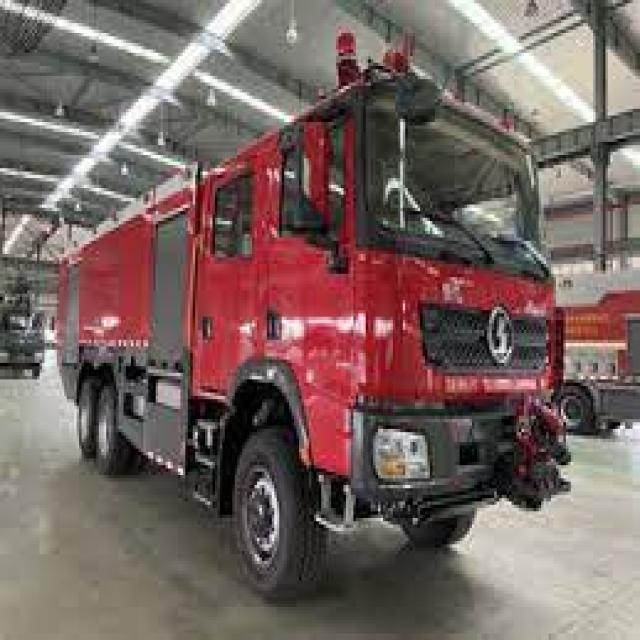pompier: (50, 34, 562, 591)
